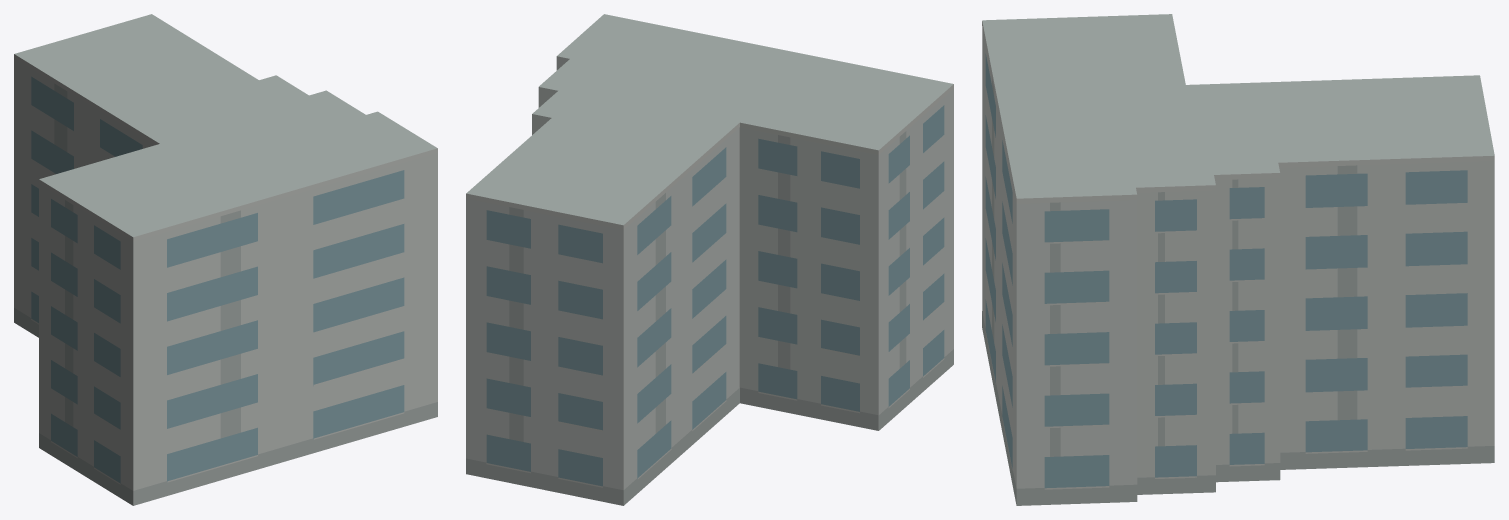
The model's file is survey-upis-32460002.glb.
3 renders of one model, left to right at view 1: azimuth 30°, elevation 25°; view 2: azimuth 150°, elevation 25°; view 3: azimuth 270°, elevation 25°, orthographic. The views are drawn at different scales.
Visible parts, largest first — view 1: survey-upis-32460002.tmp; view 2: survey-upis-32460002.tmp; view 3: survey-upis-32460002.tmp.
Boxes of the visible parts, x1=… form: survey-upis-32460002.tmp: x1=14, y1=14, x2=437, y2=505; survey-upis-32460002.tmp: x1=466, y1=14, x2=953, y2=505; survey-upis-32460002.tmp: x1=982, y1=14, x2=1494, y2=505.
Size of the model in its own units: 18.45 by 14.3 by 21.64.
